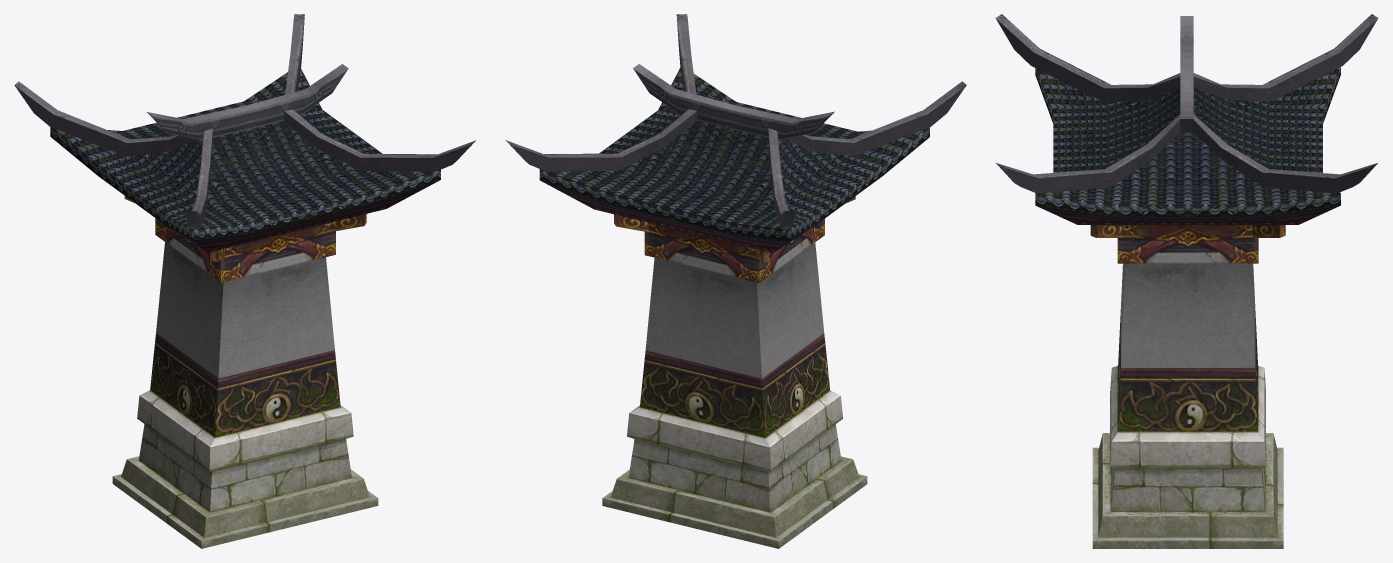
The model's file is QYS_Wall_A_01_01.FBX.
The picture shows the model from 3 angles, left to right: view 1: azimuth 30°, elevation 25°; view 2: azimuth 150°, elevation 25°; view 3: azimuth 270°, elevation 25°; orthographic projection. The views are drawn at different scales.
Parts seen in each view (by area): view 1: QYS_Wall_A_01_03, QYS_Wall_A_01_01; view 2: QYS_Wall_A_01_03, QYS_Wall_A_01_01; view 3: QYS_Wall_A_01_03, QYS_Wall_A_01_01.
Boxes of the visible parts, bbox=[...] form: QYS_Wall_A_01_03: bbox=[14, 14, 475, 378]; QYS_Wall_A_01_01: bbox=[112, 196, 378, 548]; QYS_Wall_A_01_03: bbox=[505, 14, 966, 378]; QYS_Wall_A_01_01: bbox=[602, 196, 867, 548]; QYS_Wall_A_01_03: bbox=[995, 14, 1378, 367]; QYS_Wall_A_01_01: bbox=[1090, 225, 1285, 548].
Size of the model in its own units: 1041 by 1387 by 1105.
